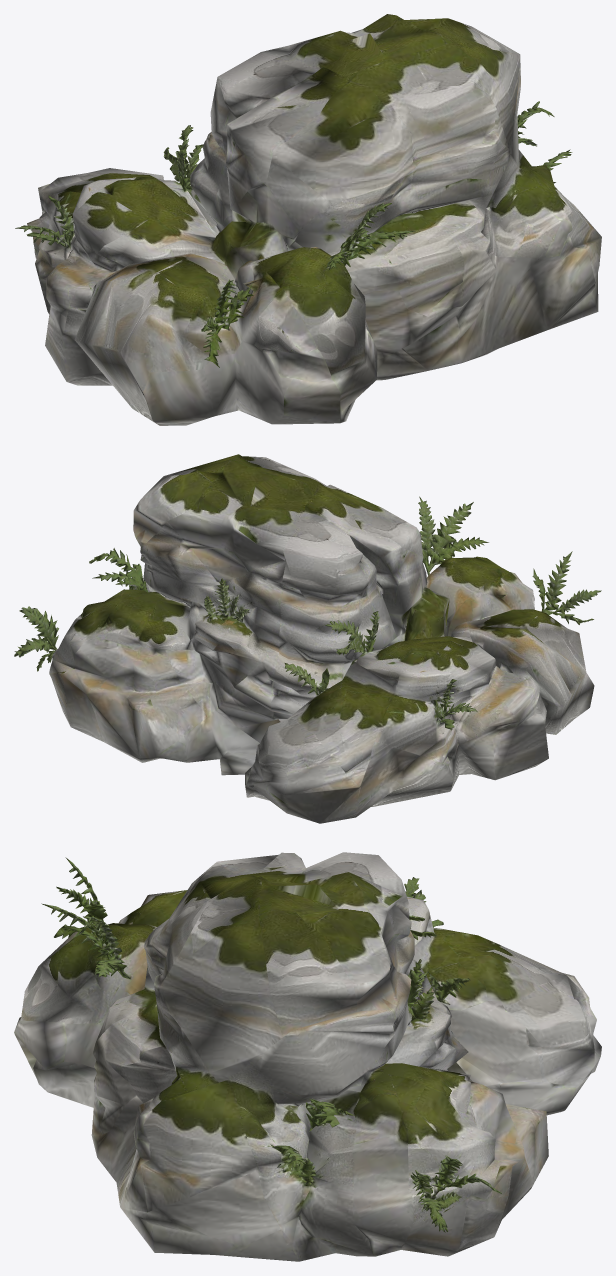
Rendered from pedra2.glb.
3 views of the same model, one above another, from view 1: azimuth 30°, elevation 25°; view 2: azimuth 150°, elevation 25°; view 3: azimuth 270°, elevation 25° (orthographic). The views are drawn at different scales.
Visible parts, largest first — view 1: pedra2; view 2: pedra2; view 3: pedra2.
Part boxes in pixels (x1,y1,x2,y2): pedra2: [15, 14, 601, 425]; pedra2: [14, 454, 601, 823]; pedra2: [14, 852, 601, 1261].
Size of the model in its own units: 1.89 by 0.8624 by 1.6.
1 material, 1 textured.
